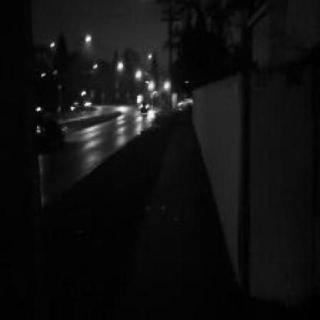other: (110, 91, 132, 141)
